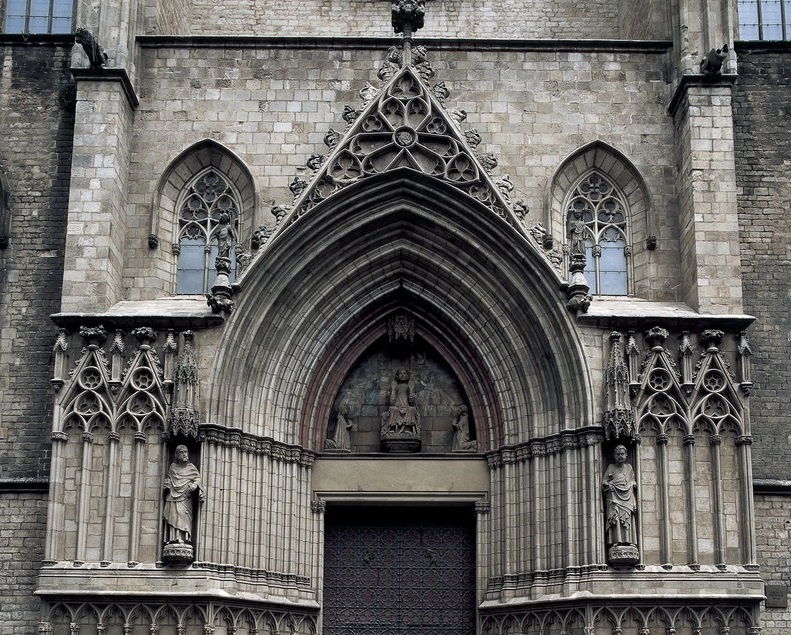arco-apuntado: (206, 162, 598, 429), (148, 131, 261, 222), (545, 136, 656, 223)
